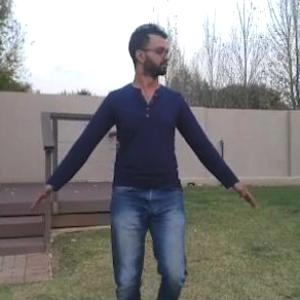land: (21, 13, 259, 299)
